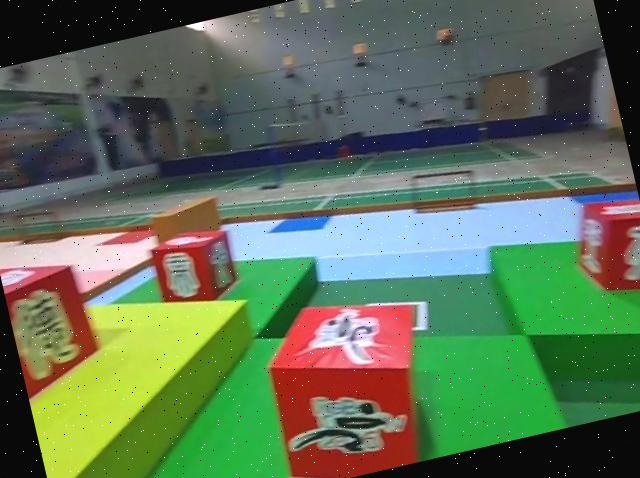R1: (251, 279, 448, 478)
R2 Fake: (0, 247, 109, 405), (561, 186, 640, 311), (145, 218, 244, 314)
